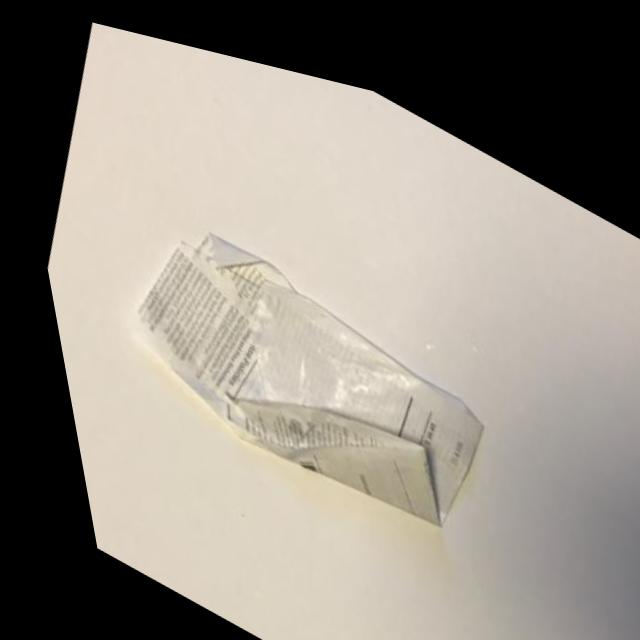paper: (8, 56, 622, 640)
